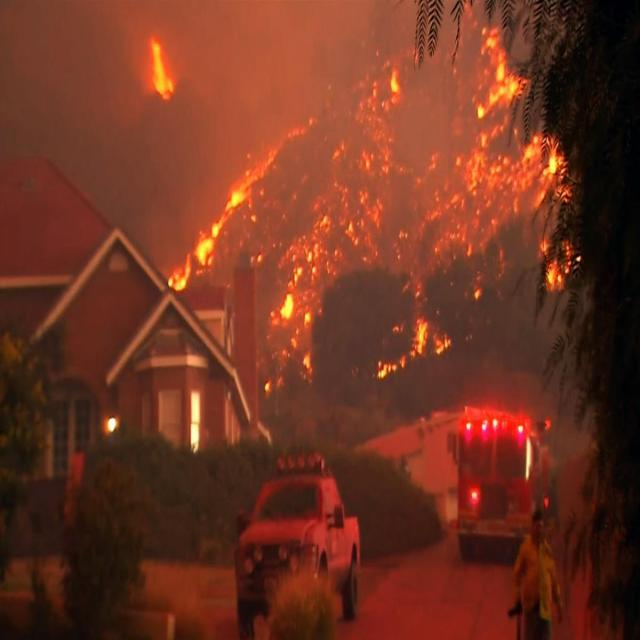fire: (203, 39, 398, 383), (449, 20, 580, 314), (412, 313, 460, 374), (147, 30, 177, 102), (169, 250, 201, 298)
